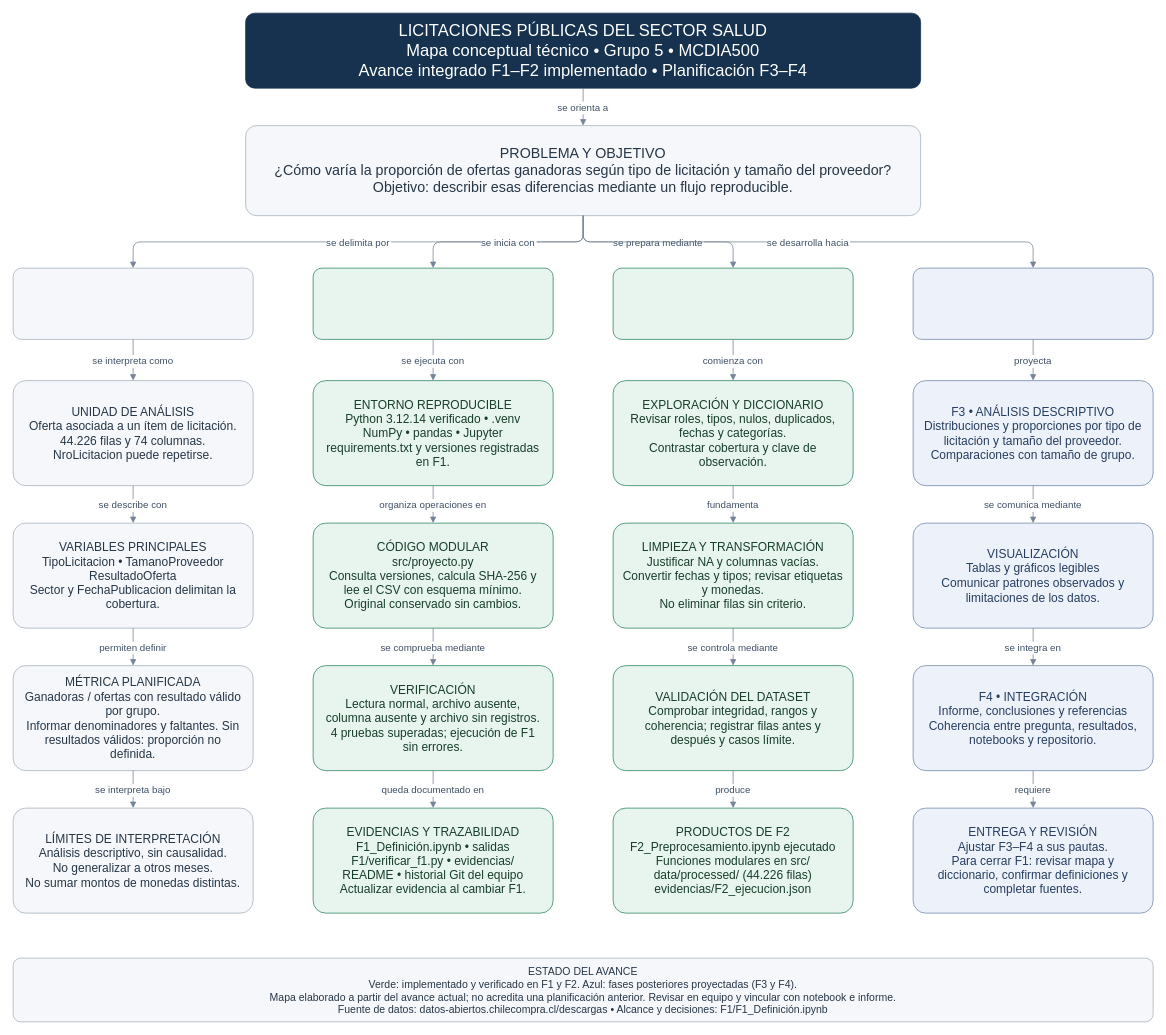
This 1166x1035 diagram has some shape labels left out. The shapes that lost their labels are listed below. From the top down, each one's centre as x and y in pixels, then its label:
the point at 132,303: DATOS Y ALCANCE Reporte de marzo de 2026 Fuente: ChileCompra
the point at 432,303: F1 • IMPLEMENTADO Definición y entorno Objetivo 1
the point at 732,303: F2 • IMPLEMENTADO Preparación y calidad de datos Objetivo 2
the point at 1032,303: F3–F4 • PROYECCIÓN Análisis y comunicación Objetivos 3 y 4
